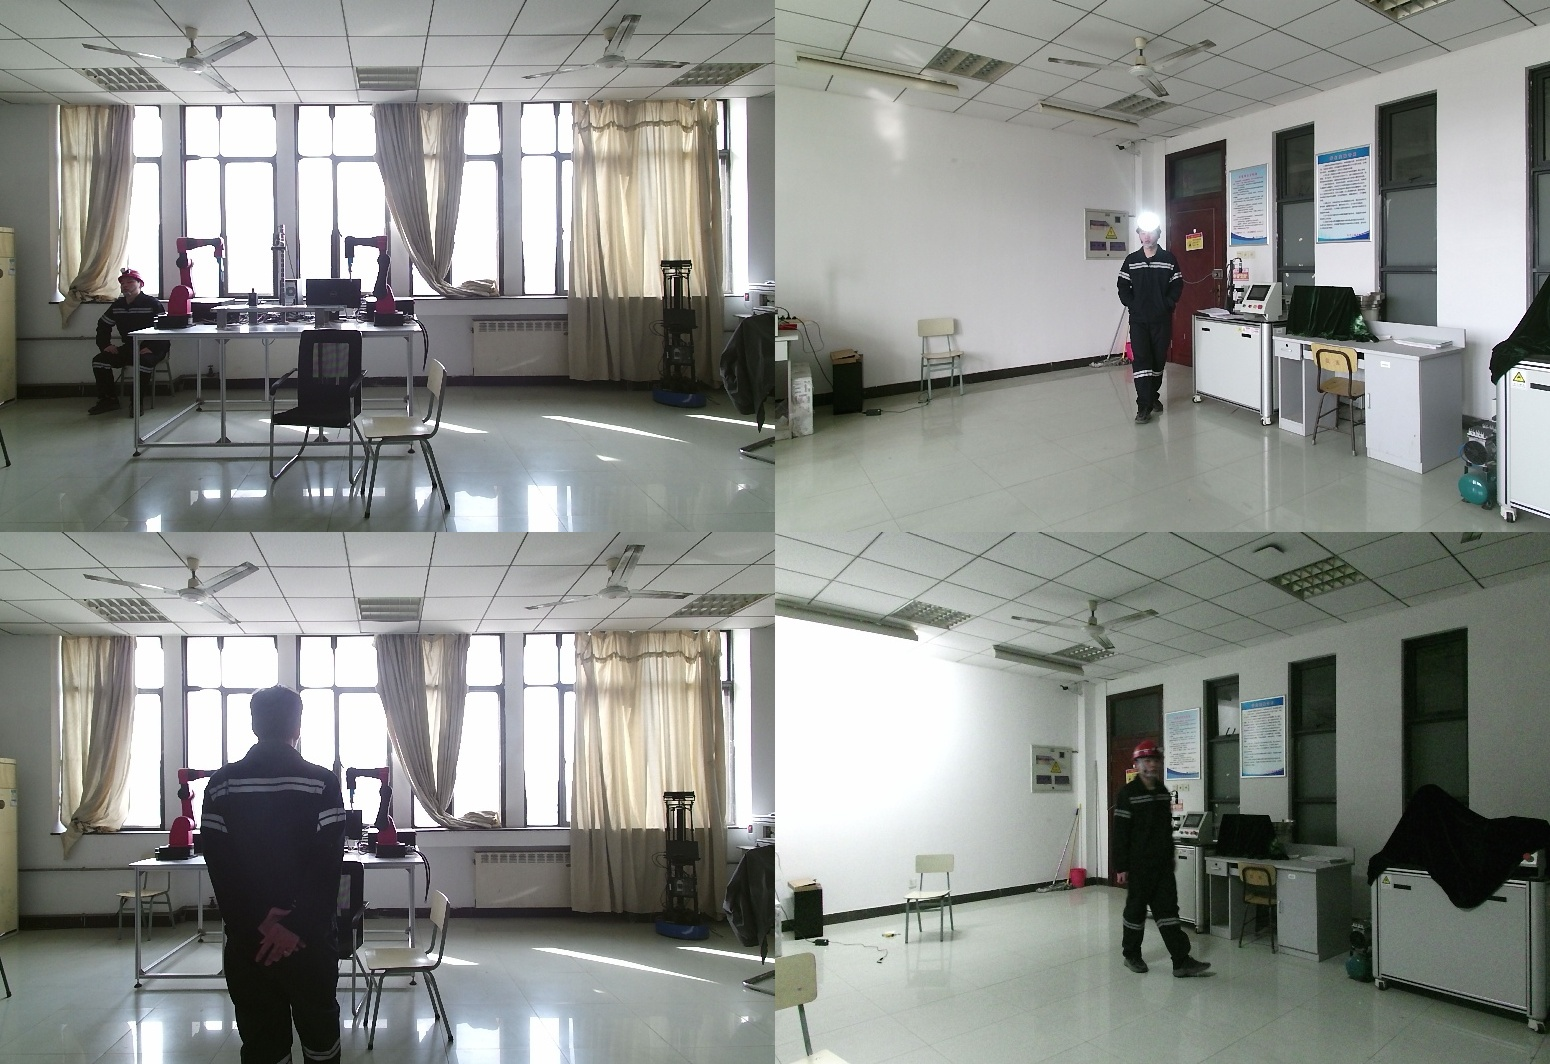person: (201, 686, 362, 1064), (1108, 741, 1214, 977), (1114, 221, 1189, 429), (80, 270, 179, 415)
